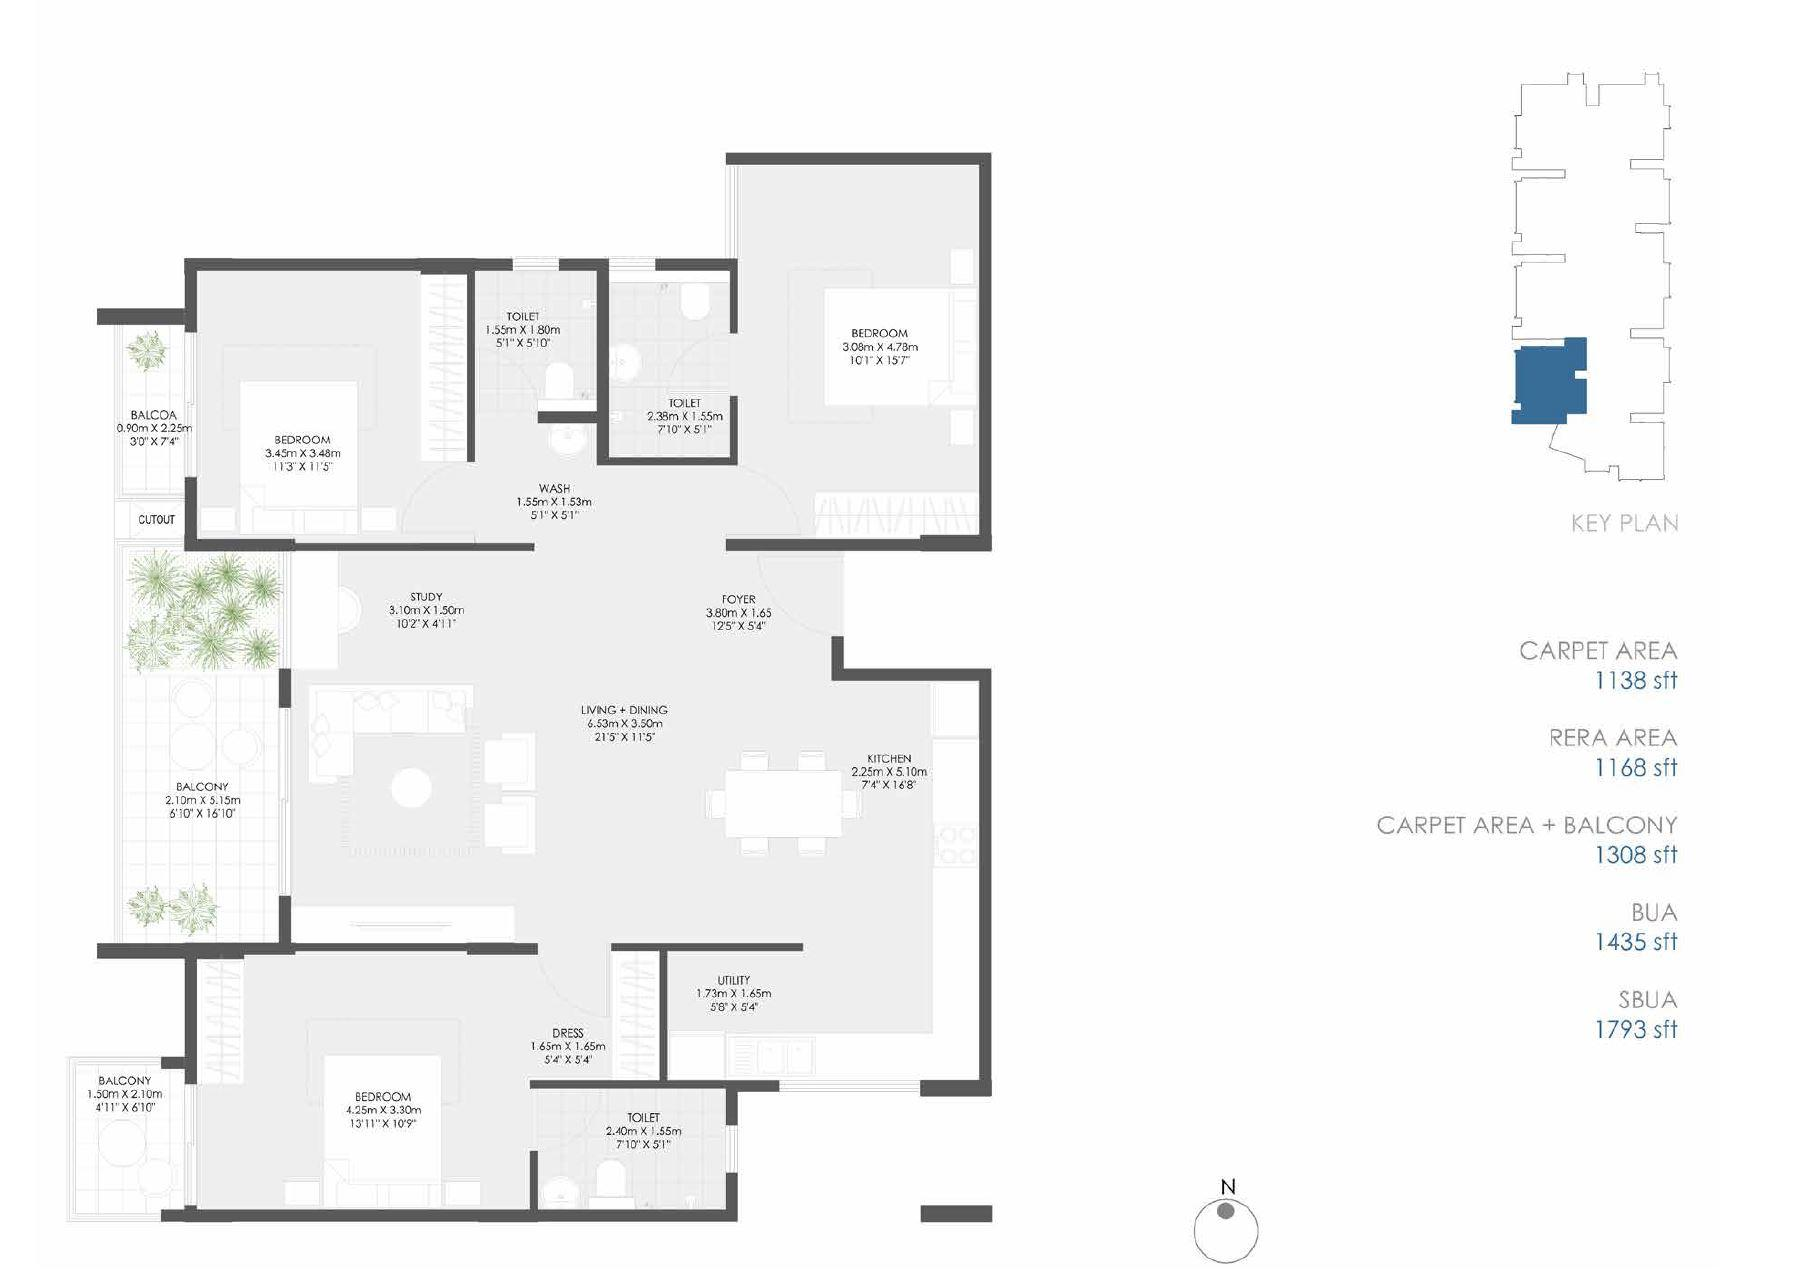Balcony: (125, 547, 283, 943), (69, 1060, 186, 1219)
Bed: (237, 382, 360, 540), (325, 1053, 443, 1212), (824, 291, 977, 407)
Bedroom: (732, 167, 980, 539), (194, 953, 523, 1211), (194, 272, 471, 543)
Dining Room: (644, 677, 873, 935)
Dining table: (698, 742, 848, 865)
Foyer: (540, 549, 831, 671)
Kitchen: (820, 678, 975, 1080)
Living Room: (291, 678, 644, 938)
Sofa: (310, 687, 476, 731), (310, 691, 357, 783), (485, 797, 539, 855), (485, 736, 538, 789)
Wardrobe: (809, 483, 982, 540), (420, 274, 467, 459), (609, 954, 662, 1078), (199, 961, 243, 1082)
balcoa: (119, 323, 192, 489)
commode: (540, 361, 578, 407), (681, 284, 714, 321), (596, 1162, 620, 1204)
door: (386, 459, 477, 545), (749, 553, 841, 636), (520, 939, 609, 1020), (521, 1082, 607, 1160), (272, 710, 303, 903), (665, 338, 749, 397), (724, 467, 797, 535), (477, 345, 543, 418), (181, 1084, 201, 1209)
dress: (525, 950, 667, 1078)
fridge: (928, 682, 979, 735)
kitchen-slab: (932, 735, 975, 1077), (729, 1035, 977, 1075)
sink: (731, 1037, 812, 1077), (605, 339, 647, 385), (547, 425, 590, 461), (540, 1176, 579, 1212)
stove: (932, 825, 976, 865)
study: (291, 552, 532, 671)
toilet: (600, 269, 733, 461), (532, 1086, 732, 1211), (474, 270, 602, 419)
tv: (342, 911, 462, 933)
utility: (665, 949, 809, 1080)
wash: (470, 423, 602, 547)
washing-machine: (667, 1033, 728, 1078)
